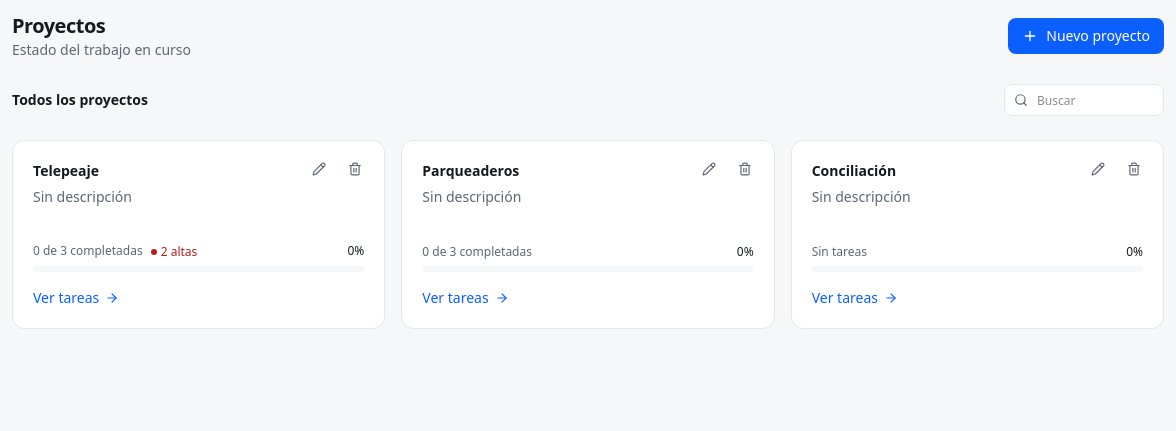
Test case: ProjectsPage — búsqueda › sin coincidencias no dice «crea el primero», que sería mentira
Step 1. Type "no existe" into the search field named "Buscar proyectos por nombre" → coordinates (1084, 100), box [1004,84,1164,116]
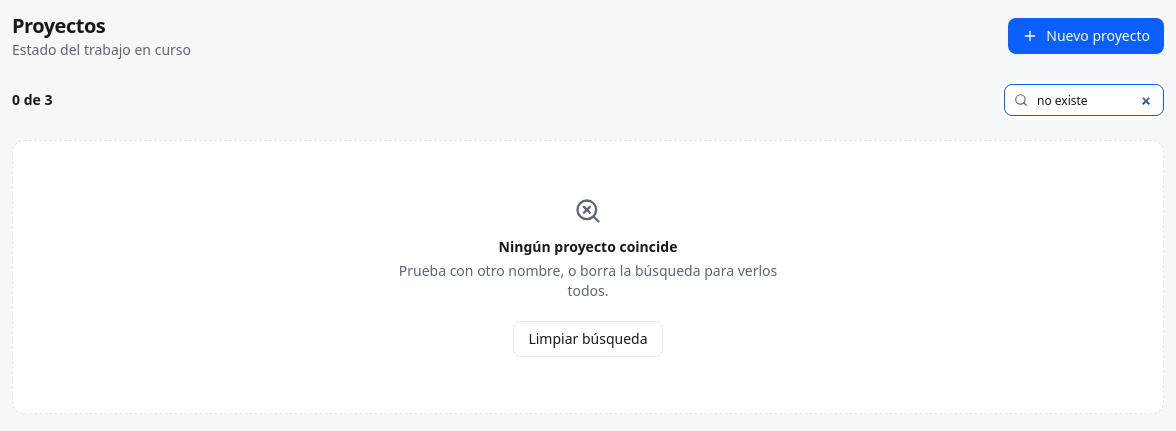
Now the heading "Ningún proyecto coincide" is shown, box [499,237,677,257]
